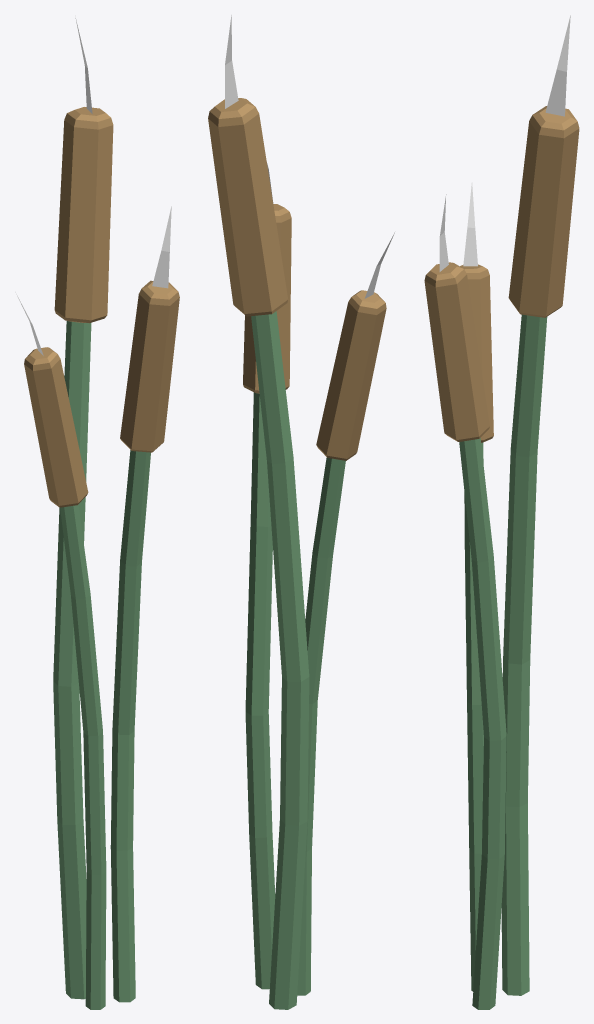
Rendered from Reeds(2).fbx.
3 views of the same model, side by side, from view 1: azimuth 30°, elevation 25°; view 2: azimuth 150°, elevation 25°; view 3: azimuth 270°, elevation 25° (orthographic). The views are drawn at different scales.
Visible parts, largest first — view 1: Reeds(2); view 2: Reeds(2); view 3: Reeds(2).
Part boxes in pixels (x1,y1,x2,y2): Reeds(2): (15, 18, 179, 1009); Reeds(2): (208, 15, 394, 1009); Reeds(2): (424, 15, 579, 1009).
Size of the model in its own units: 0.3175 by 1.96 by 0.2781.
